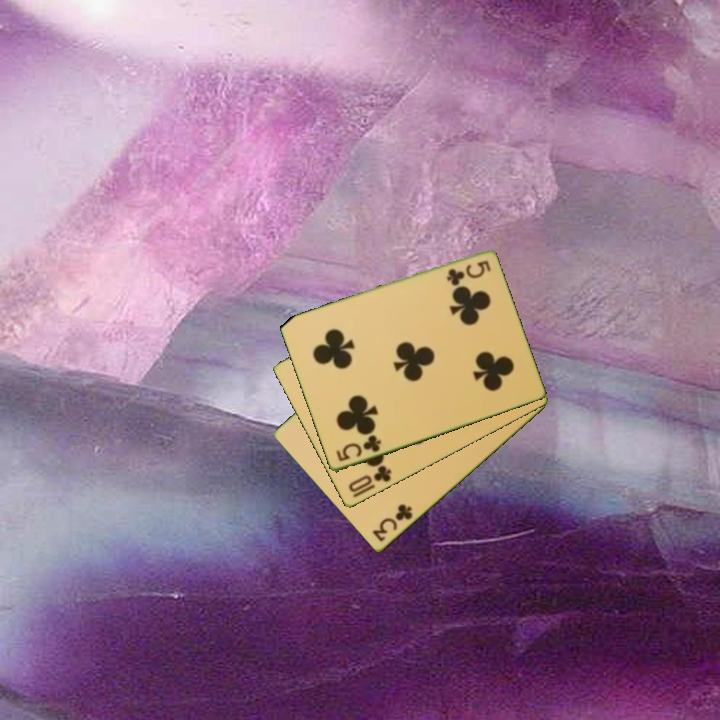10c: (345, 462, 394, 496)
3c: (368, 501, 416, 545)
5c: (332, 432, 384, 465), (443, 257, 493, 287)
